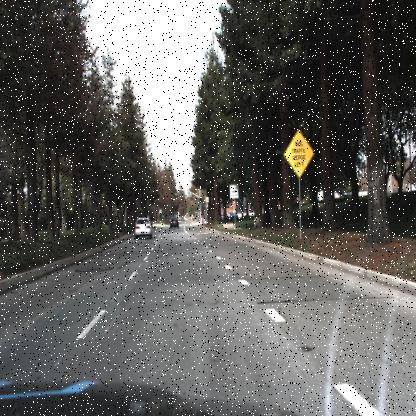car: (134, 213, 156, 239), (168, 215, 180, 231)
